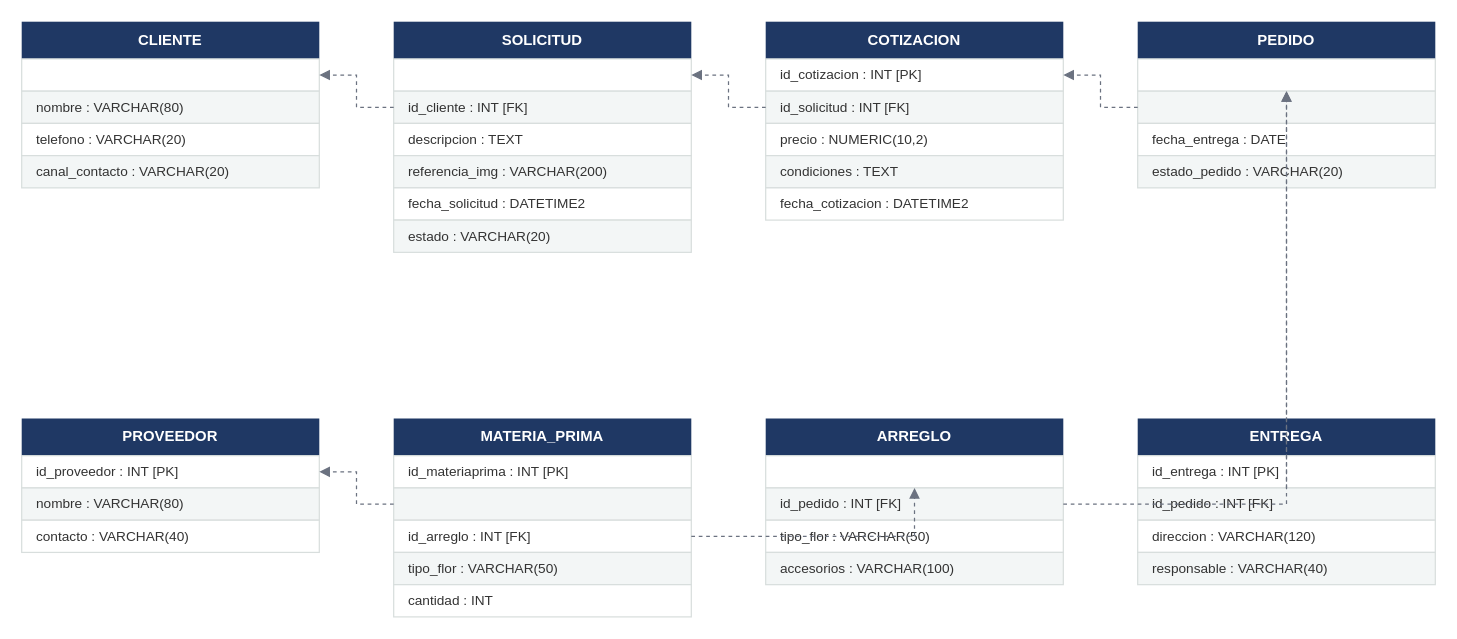
Some shapes in this 1457 by 639 pixel diagram are drawn without their labels. The centre of each missing label's shape, as x and y in pixels:
"id_arreglo : INT [PK]" goes at (913,471).
"id_cliente : INT [PK]" goes at (169,74).
"id_cotizacion : INT [FK]" goes at (1285,106).
"id_pedido : INT [PK]" goes at (1285,74).
"id_proveedor : INT [FK]" goes at (541,503).
"id_solicitud : INT [PK]" goes at (541,74).
